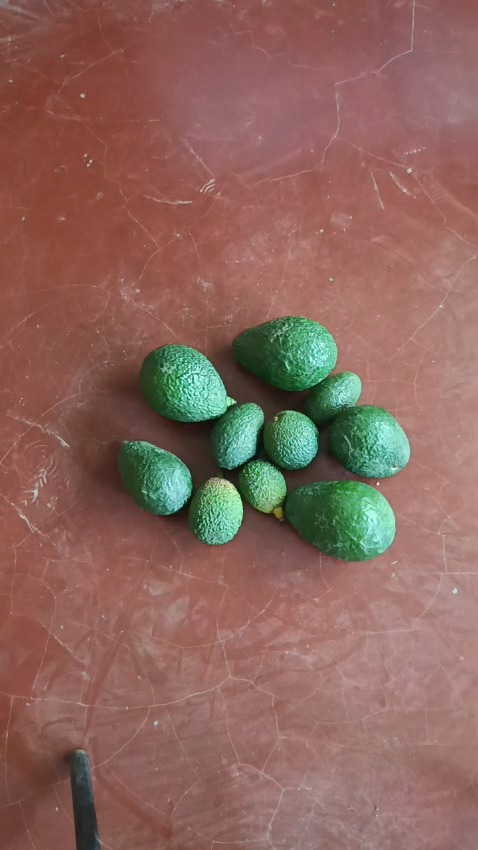Primera: (285, 480, 396, 560), (231, 317, 337, 390), (139, 344, 232, 422)
Segunda: (326, 405, 410, 478), (117, 439, 192, 515)
Tercera: (188, 476, 244, 544), (211, 402, 266, 471), (263, 410, 319, 470), (302, 372, 361, 428), (237, 460, 288, 513)
